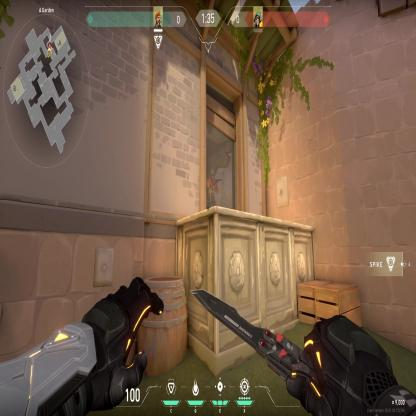enemy: (206, 167, 220, 210)
